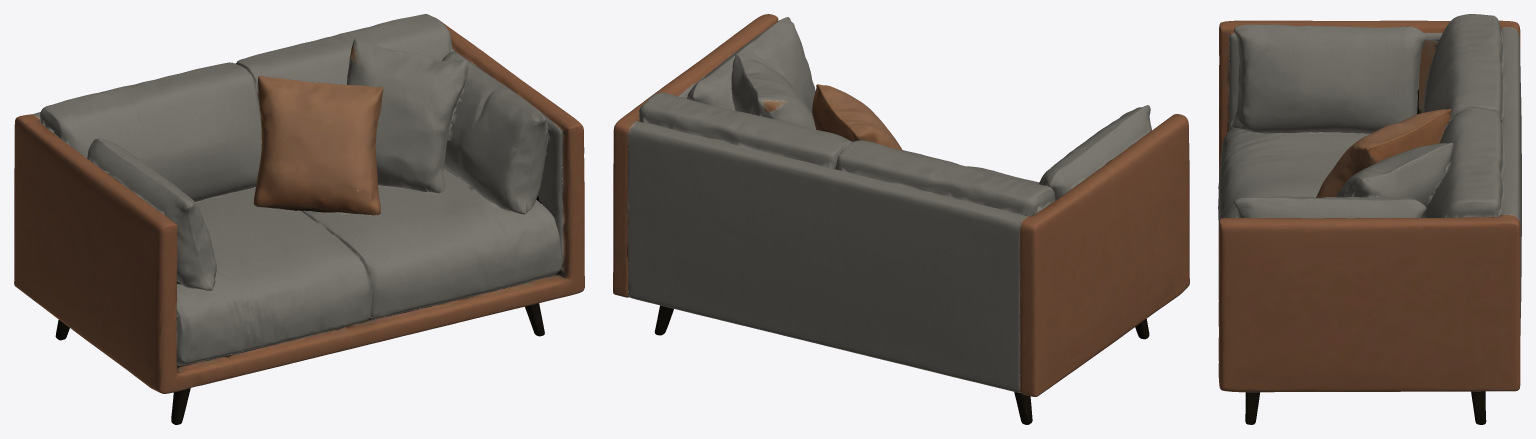
The picture shows the model from 3 angles, left to right: view 1: azimuth 30°, elevation 25°; view 2: azimuth 150°, elevation 25°; view 3: azimuth 270°, elevation 25°; orthographic projection.
Visible parts, largest first — view 1: tripo_node_93e682fc-f2d8-438b-b1c8-e41043a9a7bd; view 2: tripo_node_93e682fc-f2d8-438b-b1c8-e41043a9a7bd; view 3: tripo_node_93e682fc-f2d8-438b-b1c8-e41043a9a7bd.
Part boxes in pixels (x1=…): tripo_node_93e682fc-f2d8-438b-b1c8-e41043a9a7bd: x1=14, y1=14, x2=584, y2=424; tripo_node_93e682fc-f2d8-438b-b1c8-e41043a9a7bd: x1=613, y1=14, x2=1189, y2=424; tripo_node_93e682fc-f2d8-438b-b1c8-e41043a9a7bd: x1=1218, y1=14, x2=1521, y2=424.
Bounding box in the file's own units: 1.3 × 0.7 × 0.8.
Materials: 2 (2 with a texture image).
